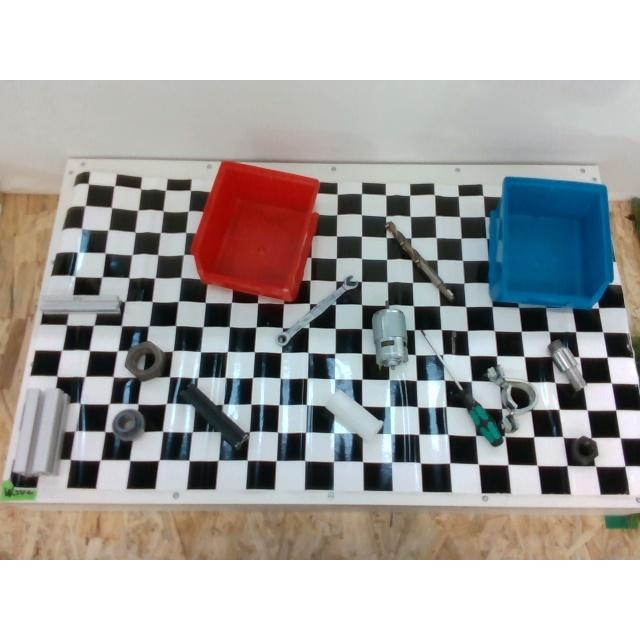Axis2: (548, 338, 584, 389)
Bearing2: (112, 408, 144, 439)
Drill: (386, 221, 454, 303)
F20_20_B: (182, 384, 248, 448)
F20_20_G: (40, 295, 124, 313)
Housing: (487, 364, 538, 432)
M20: (566, 436, 598, 464)
M30: (125, 341, 171, 381)
Motor2: (372, 308, 408, 366)
S40_40_G: (12, 388, 68, 476)
Screwdriver: (416, 330, 504, 446)
Spacer: (320, 389, 382, 438)
Wrench: (275, 275, 361, 347)
container_box_blue: (489, 176, 613, 308)
container_box_red: (190, 161, 318, 301)
